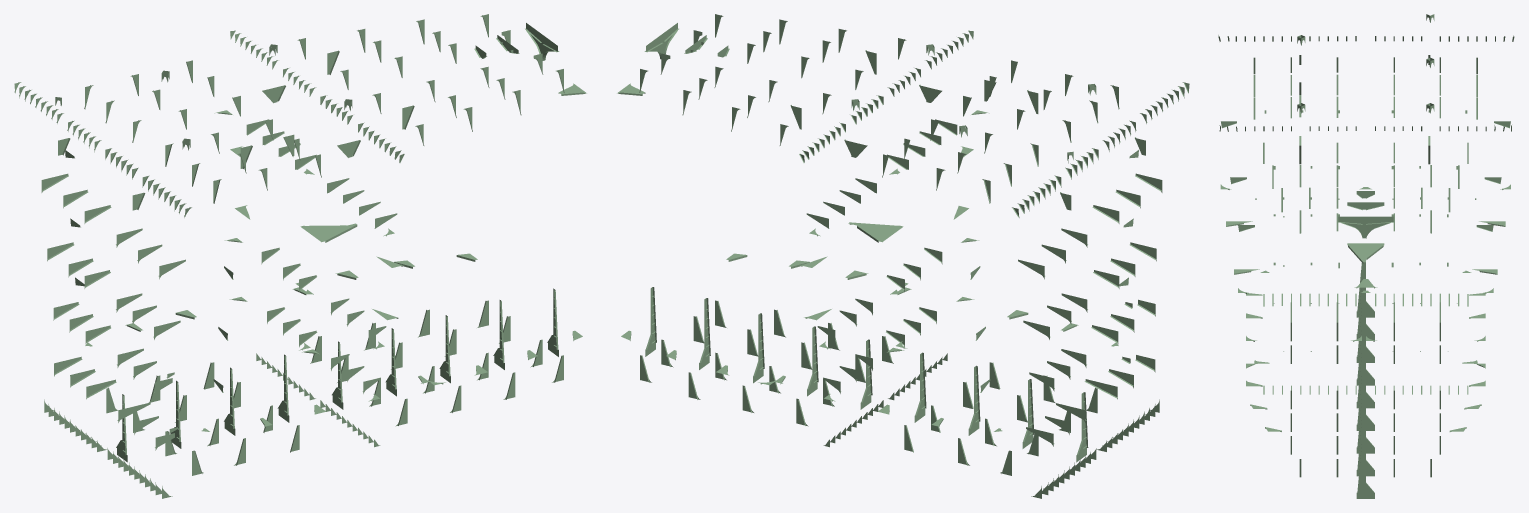
Rendered from NO_1_CENTRAL_CARGO_OIL_TK.glb.
The picture shows the model from 3 angles, left to right: view 1: azimuth 30°, elevation 25°; view 2: azimuth 150°, elevation 25°; view 3: azimuth 270°, elevation 25°; orthographic projection. The views are drawn at different scales.
Parts seen in each view (by area): view 1: no part large enough to name; view 2: no part large enough to name; view 3: PL_CenterBHDBracketxNo1CenterTank_004001-12.5_NVA_1993.
Boxes of the visible parts, x1,y1,x2,y2 form: PL_CenterBHDBracketxNo1CenterTank_004001-12.5_NVA_1993: [1356, 443, 1365, 498].
Size of the model in its own units: 47.16 by 31.5 by 28.92.
